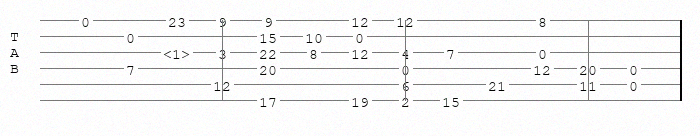0: (81, 14, 94, 27), (126, 30, 139, 43), (355, 30, 368, 43), (401, 62, 414, 75), (538, 46, 551, 59), (629, 62, 642, 75), (629, 78, 642, 91)
10: (305, 30, 327, 43)
11: (579, 78, 601, 91)
12: (213, 78, 235, 91), (351, 46, 373, 59), (351, 14, 373, 27), (396, 14, 418, 27), (533, 62, 555, 75)
15: (259, 30, 281, 43), (442, 94, 464, 107)
17: (259, 94, 281, 107)
19: (351, 94, 373, 107)
2: (401, 94, 414, 107)
20: (259, 62, 281, 75), (579, 62, 601, 75)
21: (488, 78, 510, 91)
22: (259, 46, 281, 59)
23: (168, 14, 190, 27)
3: (218, 46, 231, 59)
4: (401, 46, 414, 59)
6: (401, 78, 414, 91)
7: (126, 62, 139, 75), (446, 46, 459, 59)
8: (309, 46, 322, 59), (538, 14, 551, 27)
9: (218, 14, 231, 27), (264, 14, 277, 27)
harmonic: (163, 46, 194, 59)
